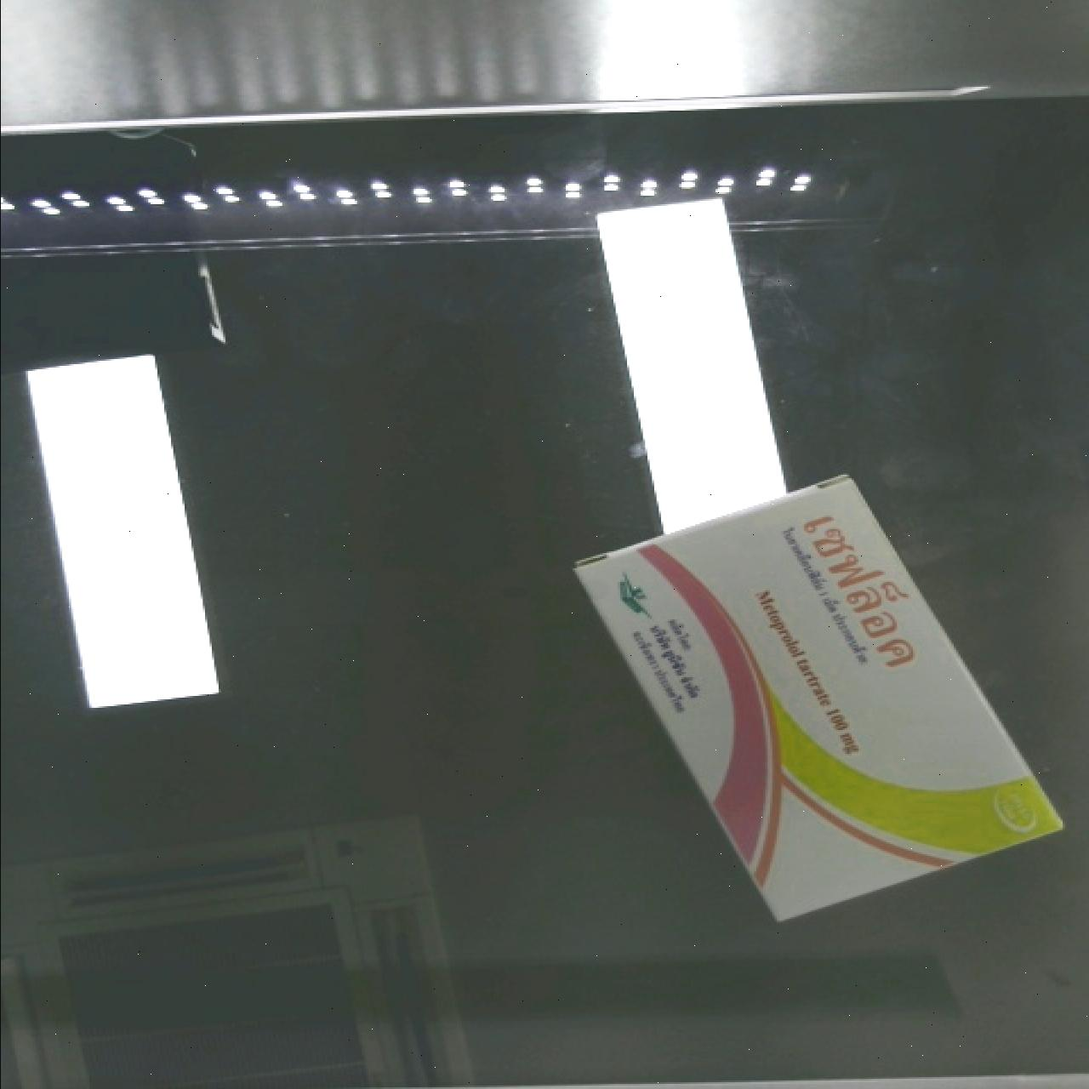medicine_label_obb: (756, 466, 954, 708)
